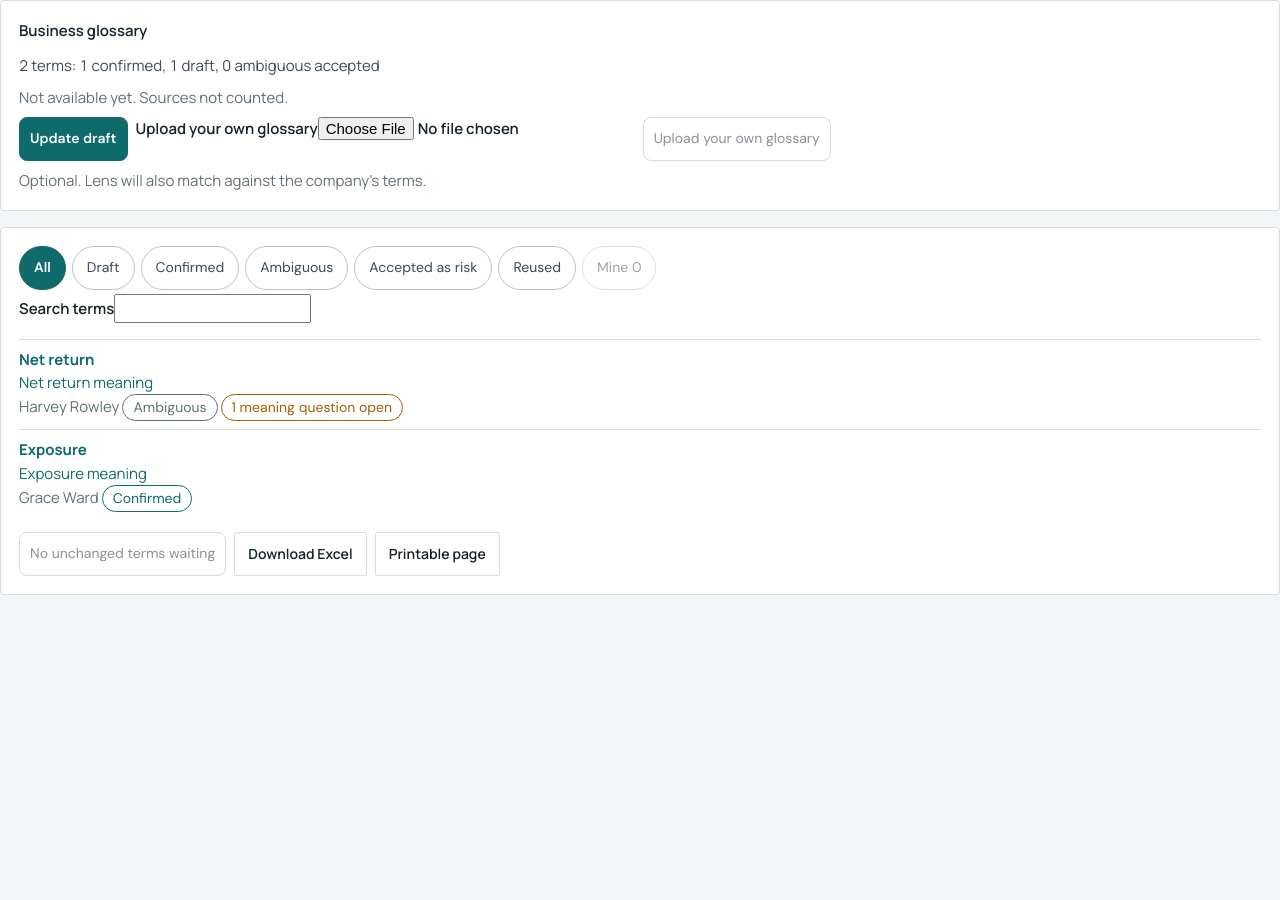
Test: Screen A: counts, chips, rows, search and the drawer
Expected: the text "2 terms: 1 confirmed, 1 draft, 0 ambiguous accepted" is shown, [19,55,380,76]
Expected: the text "Not available yet. Sources not counted." is shown, [19,86,288,108]
Click the button "Confirmed" at {"x": 190, "y": 268}, box [140,246,239,290]
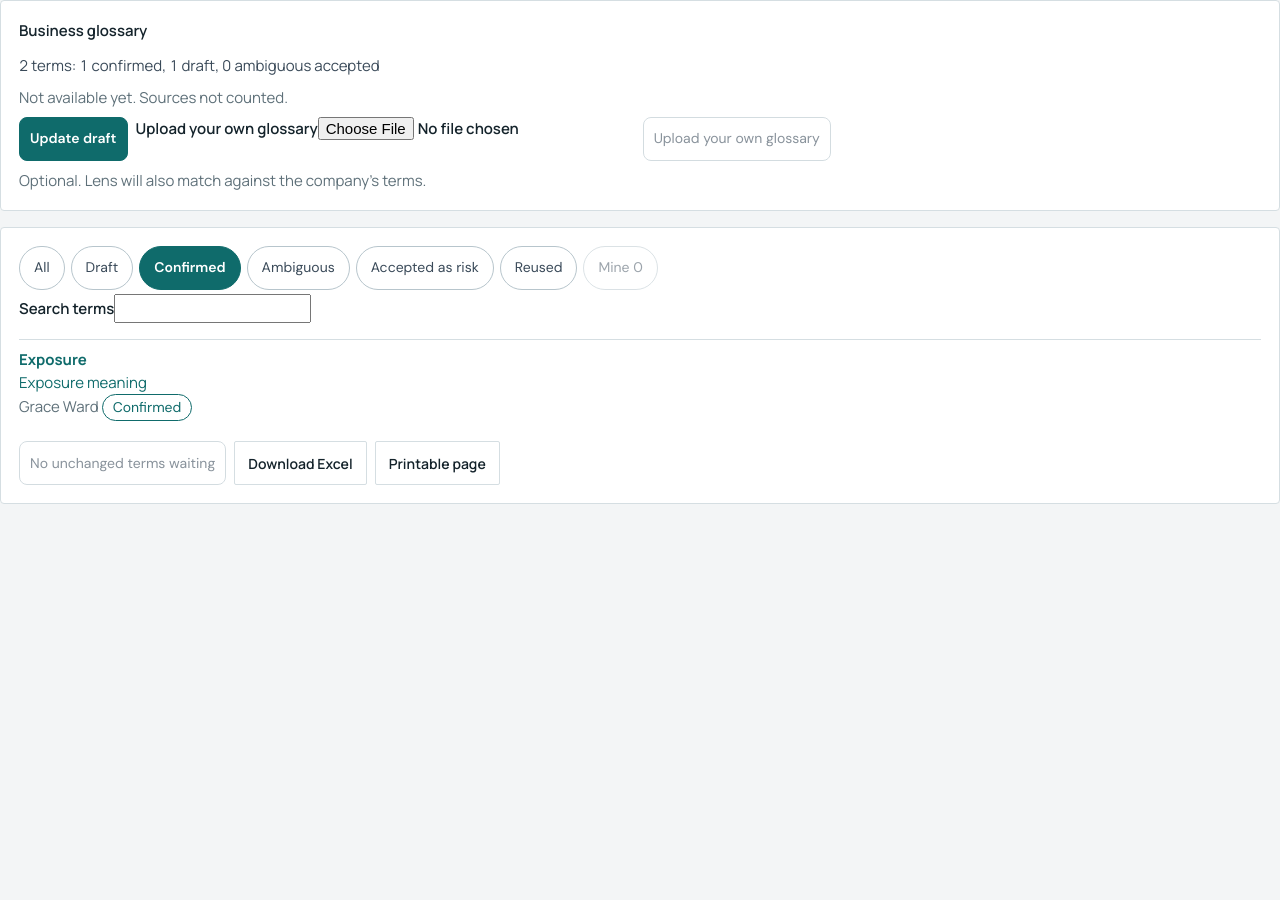
Result: the button "Net return" is gone
Click the button "All" at {"x": 42, "y": 268}, box [19,246,64,290]
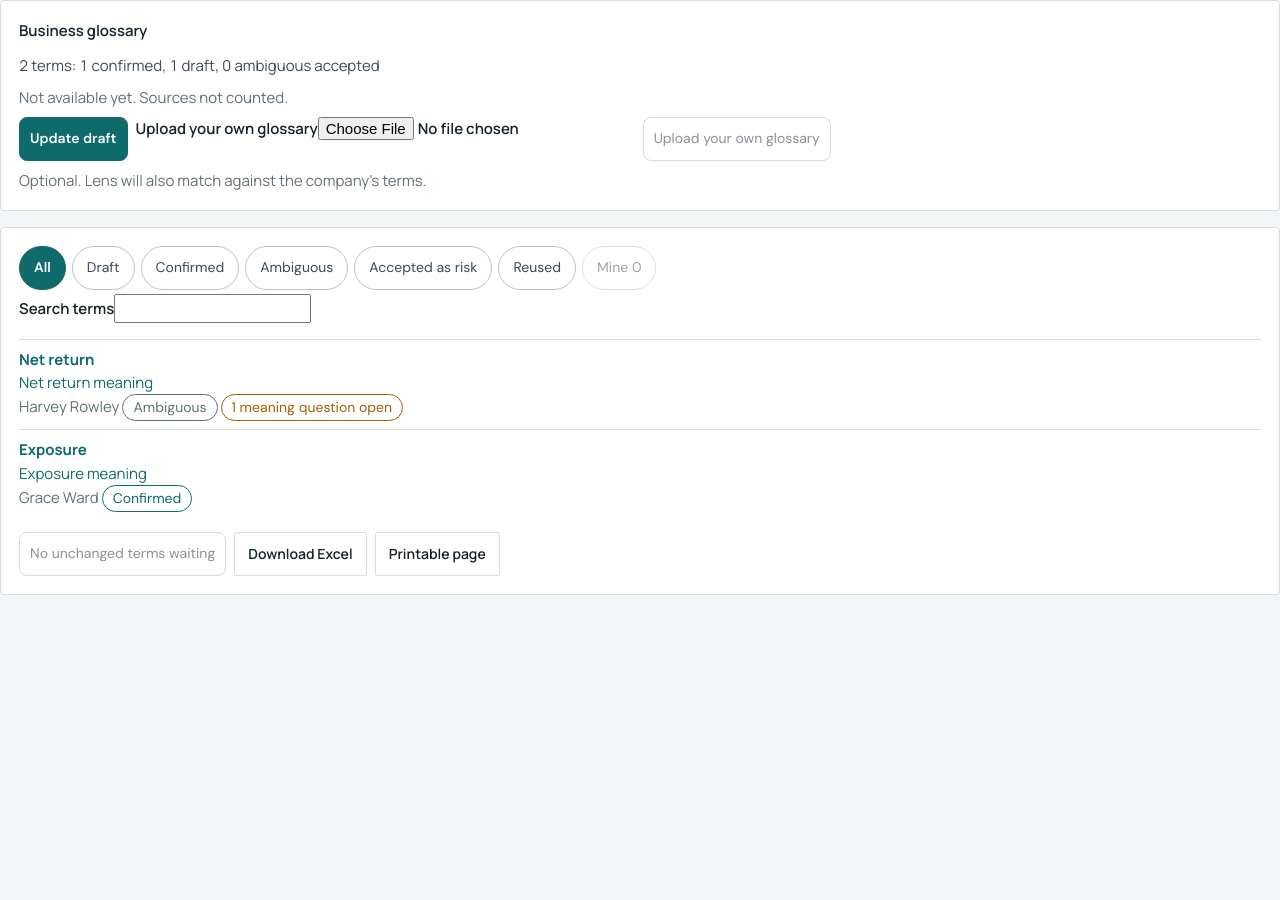
Type "zzz" into the search field labelled "Search terms" at {"x": 213, "y": 308}, box [114,294,311,323]
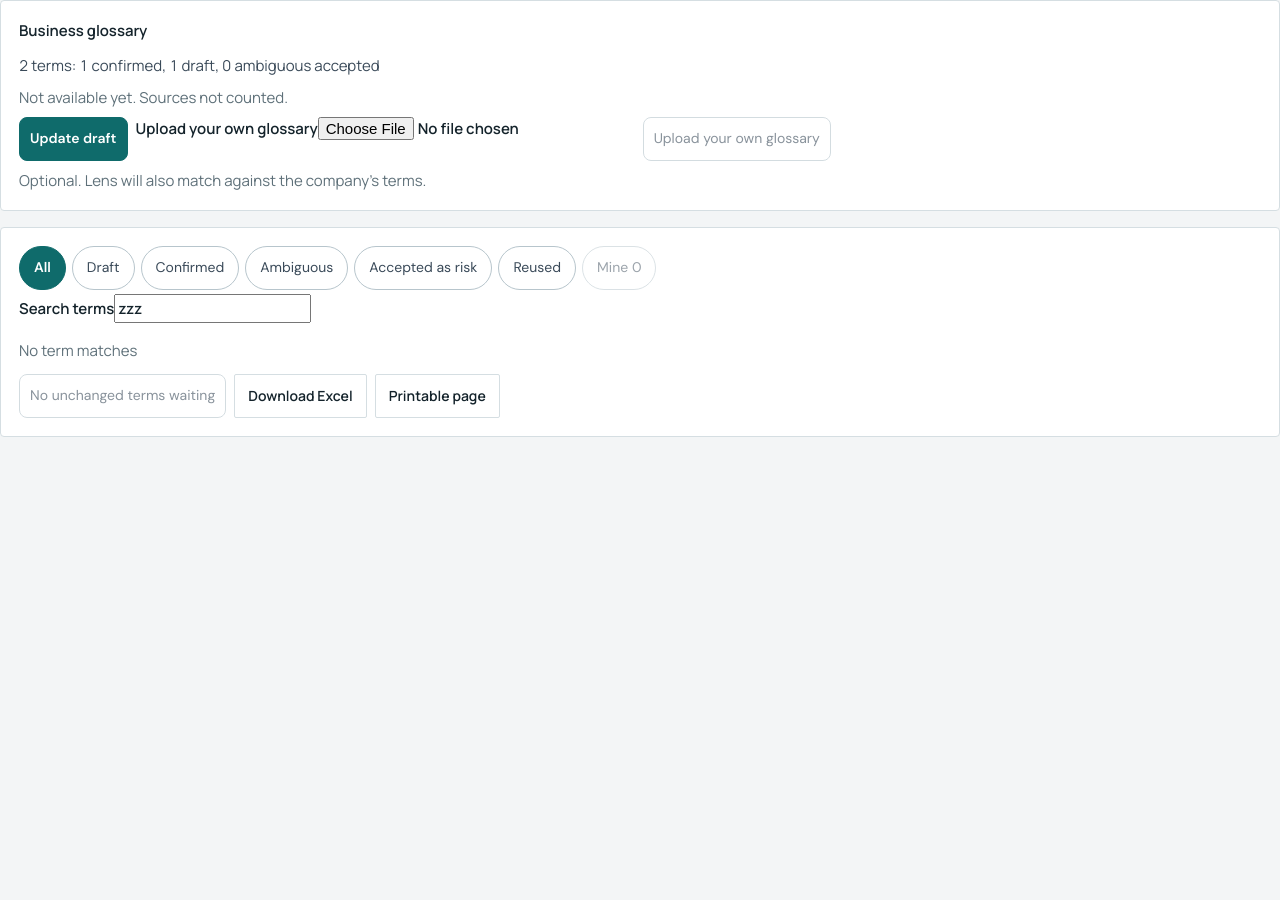
Result: the text "No term matches" is shown at [19,340,137,361]
Replace the text in the search field labelled "Search terms" with "net" at {"x": 213, "y": 308}, box [114,294,311,323]
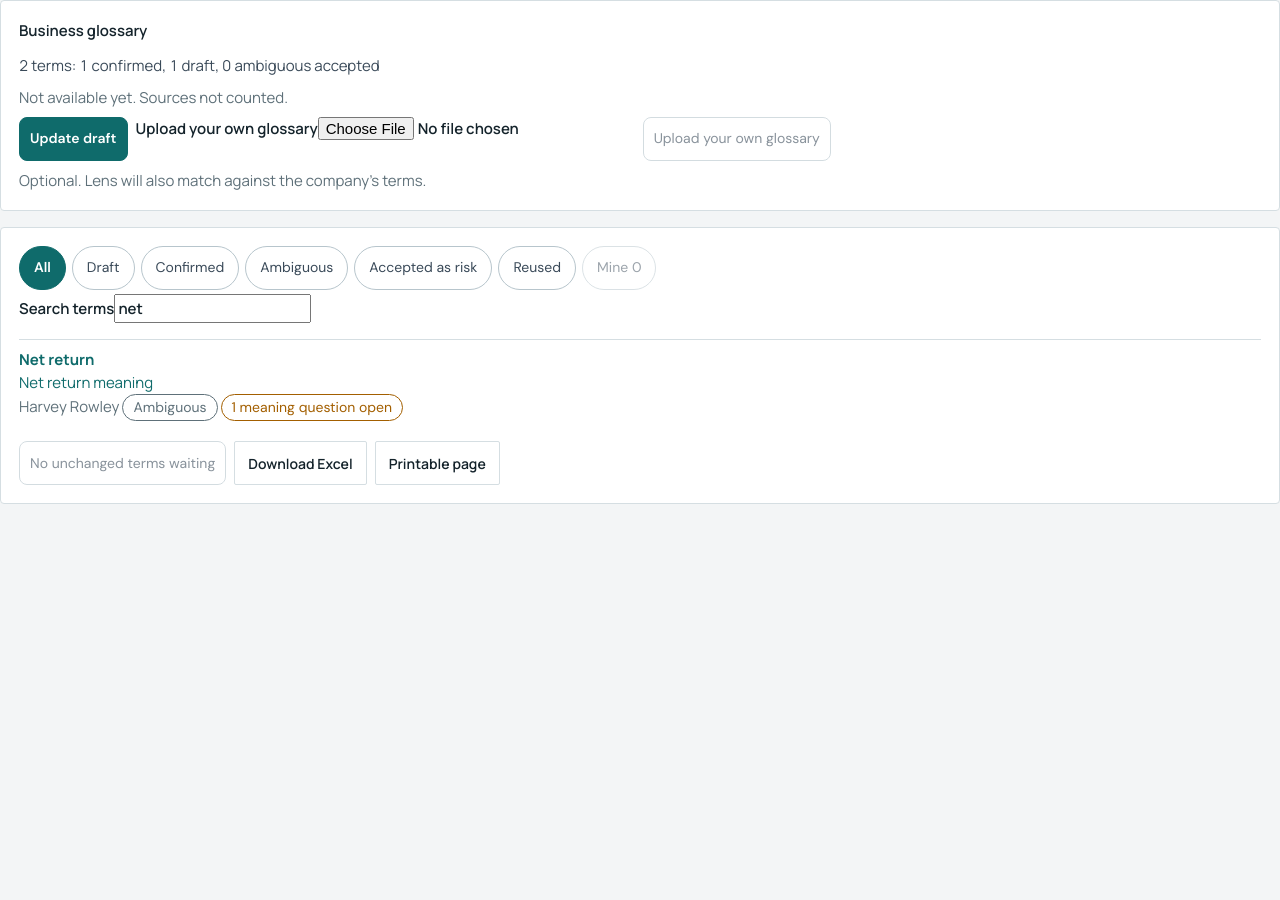
Click the text "Net return" at {"x": 57, "y": 359}, box [19,349,94,370]
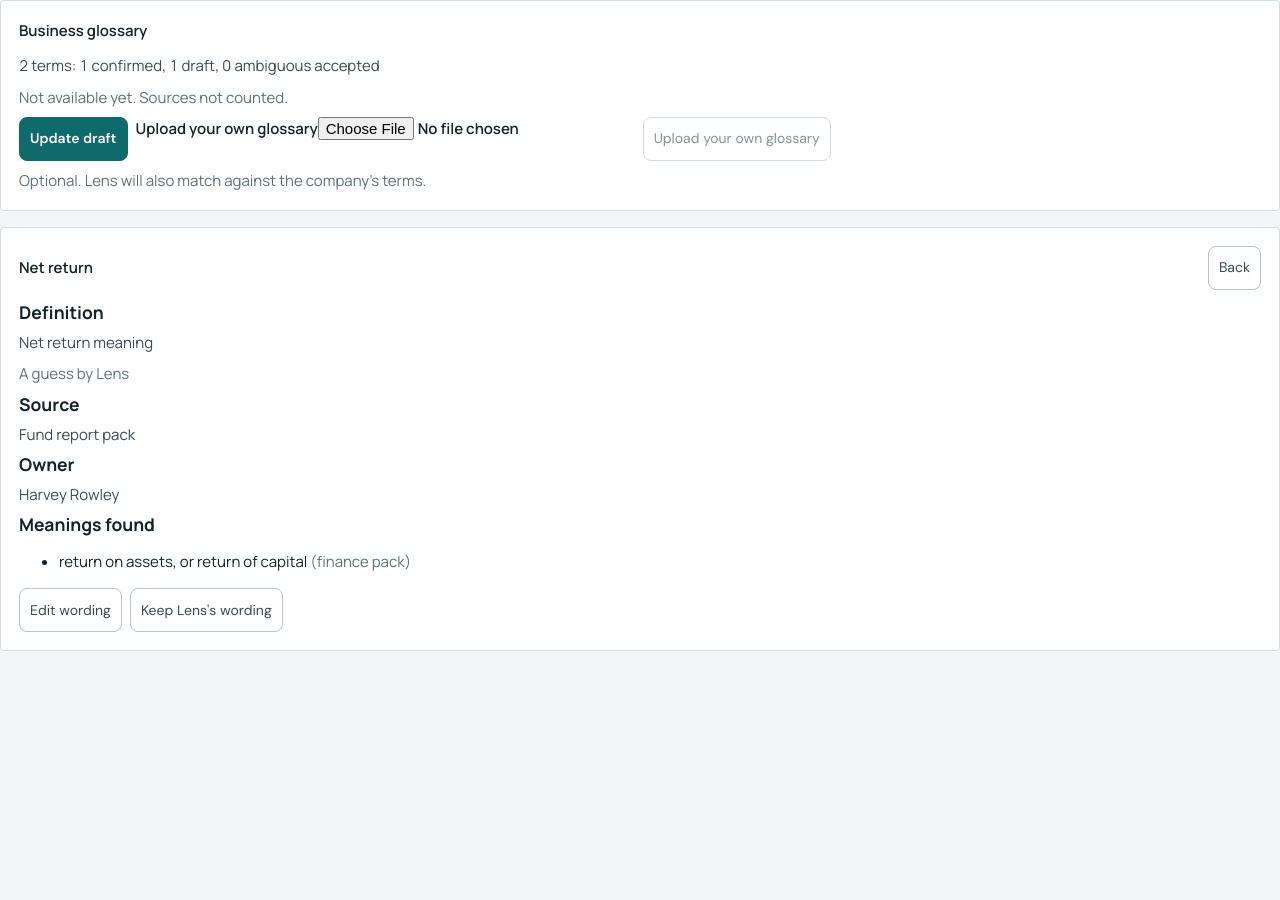
Result: the list item "return on assets, or return of capital" is shown at [59,551,307,572]
Result: the text "A guess by Lens" is shown at [19,363,129,384]
